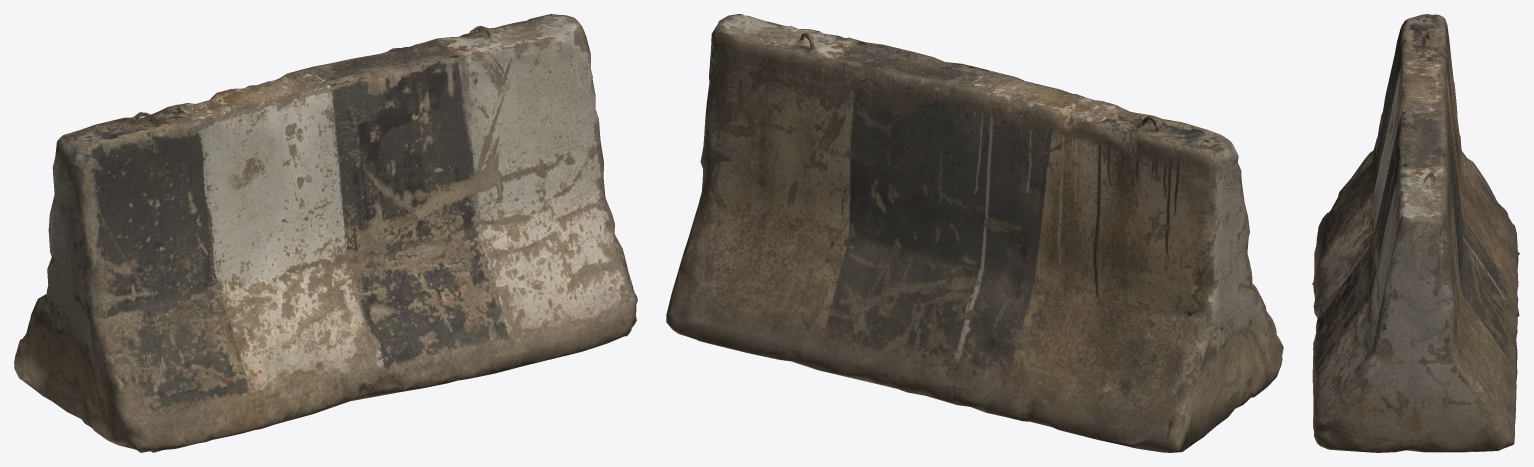
Rendered from concrete_road_barrier.glb.
3 renders of one model, left to right at view 1: azimuth 30°, elevation 25°; view 2: azimuth 150°, elevation 25°; view 3: azimuth 270°, elevation 25°, orthographic. The views are drawn at different scales.
Visible parts, largest first — view 1: concrete_road_barrier; view 2: concrete_road_barrier; view 3: concrete_road_barrier.
Part boxes in pixels (<box>): concrete_road_barrier: <box>14,14,637,452</box>; concrete_road_barrier: <box>666,14,1283,452</box>; concrete_road_barrier: <box>1312,14,1519,452</box>.
Size of the model in its own units: 1.54 by 0.83 by 0.6388.
Materials: 1 (1 with a texture image).
